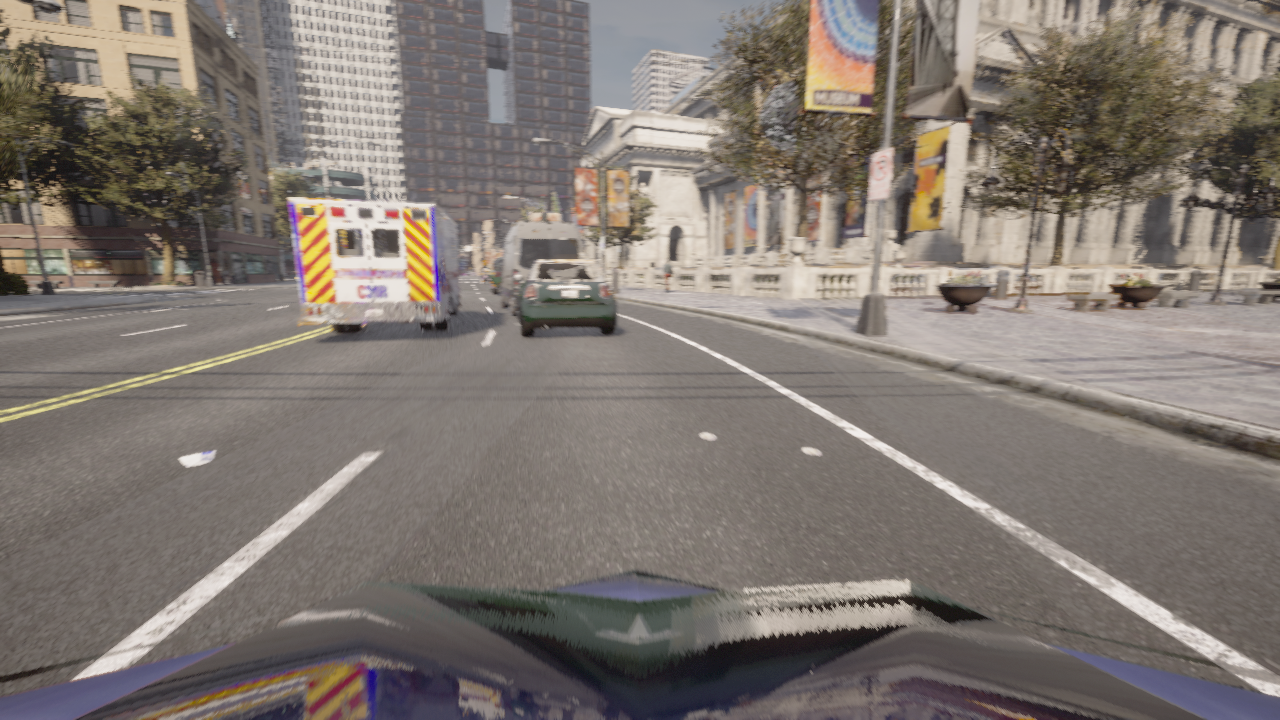cyclist: (0, 569, 1279, 719), (289, 198, 468, 333), (495, 221, 584, 316), (514, 259, 616, 336), (487, 258, 502, 294), (482, 270, 490, 283)
pedestrian: (661, 259, 672, 291)
